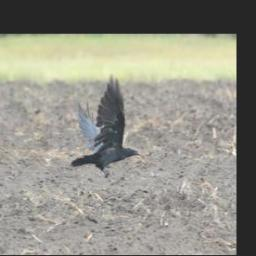Crow: (69, 72, 143, 180)
